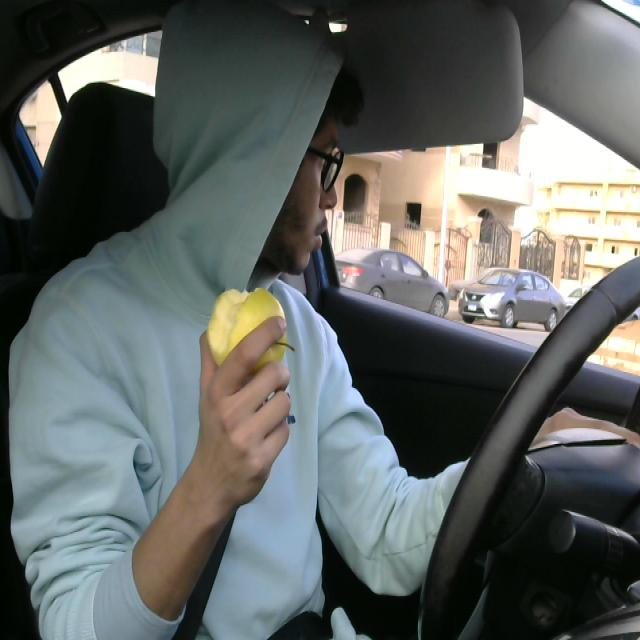eating: (206, 282, 291, 372)
